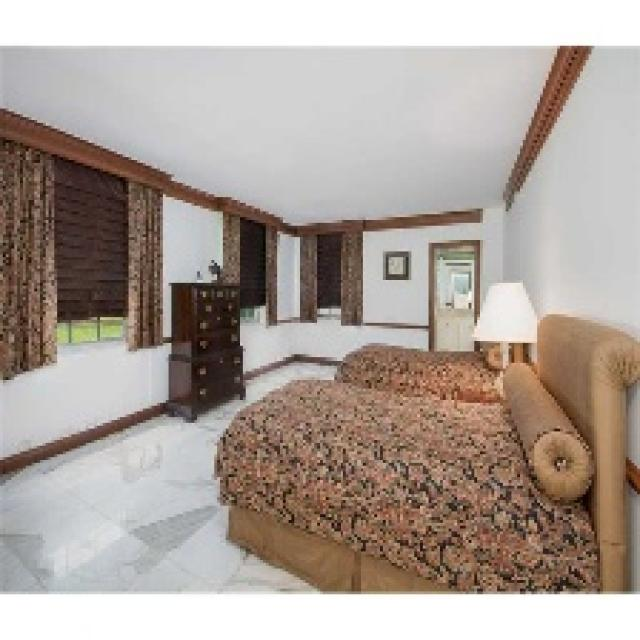Bed: (212, 312, 637, 592)
